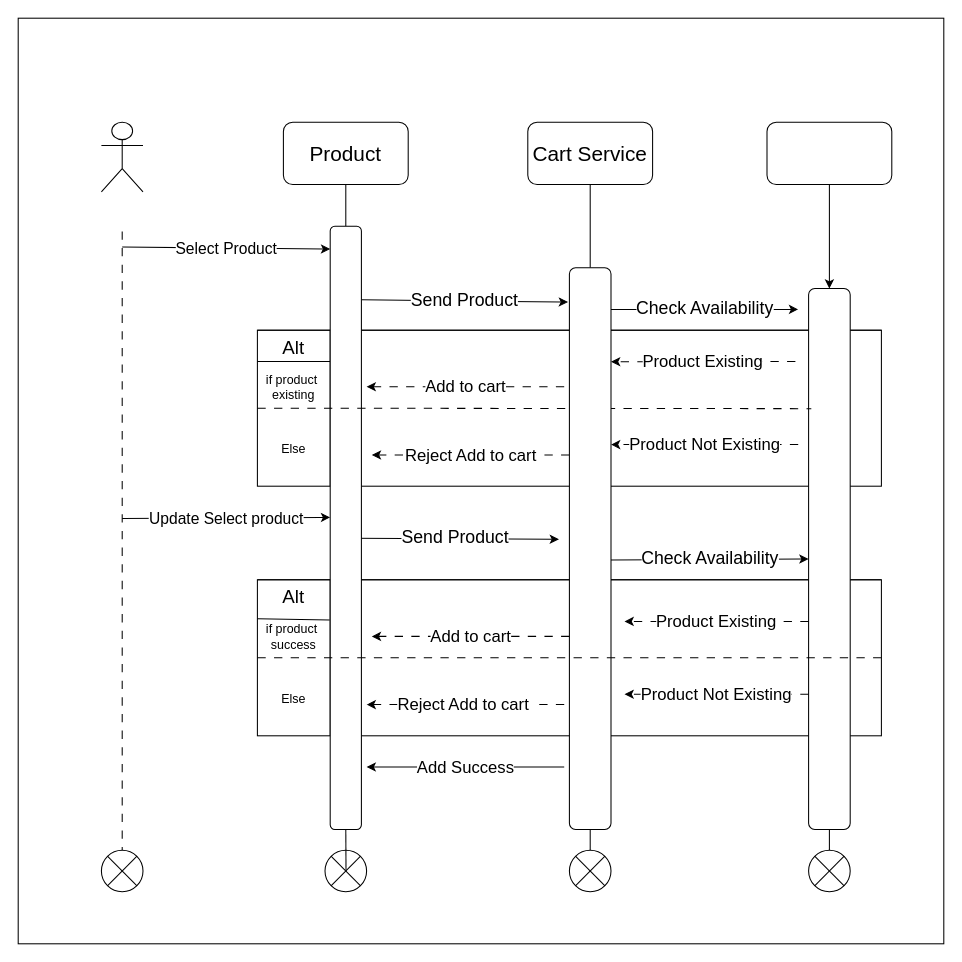
Some shapes in this 962 by 962 pixel diagram are drawn without their labels. Each missing label, with the centre of its shape:
Customer: (121,156)
Database: (829,153)
